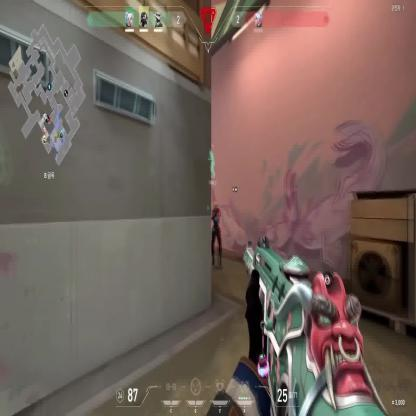enemy: (208, 201, 224, 269)
enemy_head: (214, 202, 219, 212)
